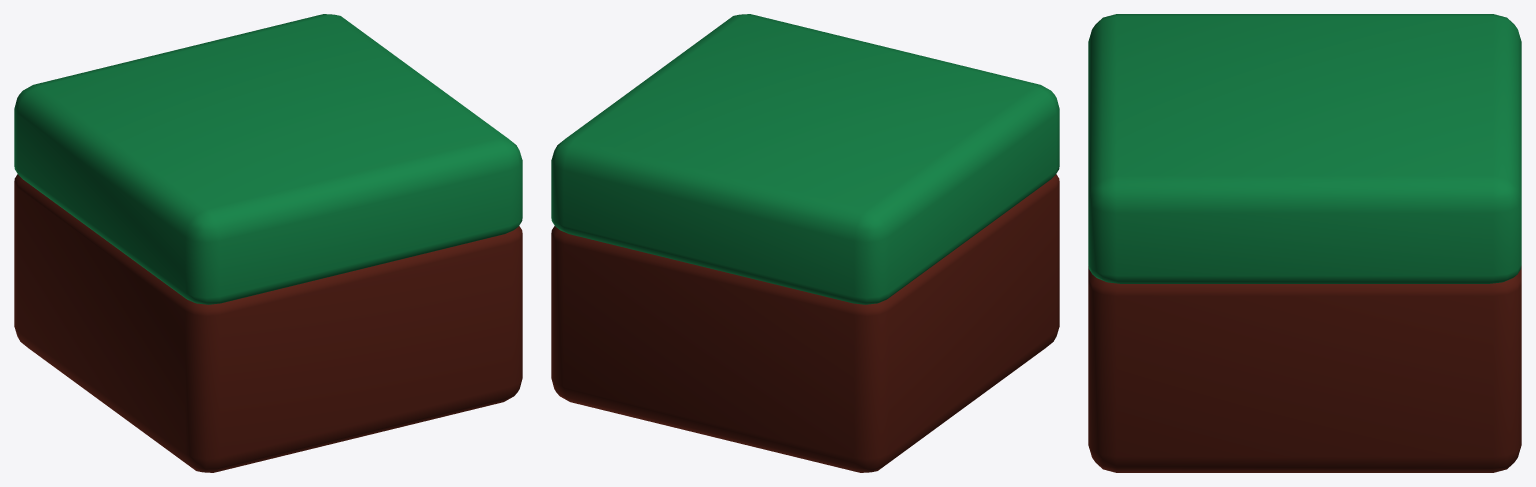
File: tile_forest.obj
The picture shows the model from 3 angles, left to right: view 1: azimuth 30°, elevation 25°; view 2: azimuth 150°, elevation 25°; view 3: azimuth 270°, elevation 25°; orthographic projection. The views are drawn at different scales.
Parts seen in each view (by area): view 1: tileMedium_forest_Cube.1615; view 2: tileMedium_forest_Cube.1615; view 3: tileMedium_forest_Cube.1615.
Boxes of the visible parts, <box> form: tileMedium_forest_Cube.1615: <box>14,14,522,472</box>; tileMedium_forest_Cube.1615: <box>551,14,1059,472</box>; tileMedium_forest_Cube.1615: <box>1088,14,1521,472</box>.
Size of the model in its own units: 2 by 1.5 by 2.
